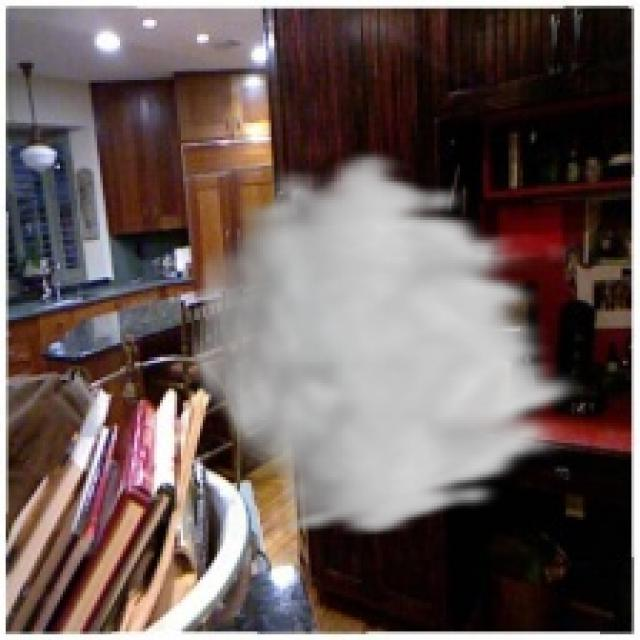Smoke: (183, 145, 592, 540)
